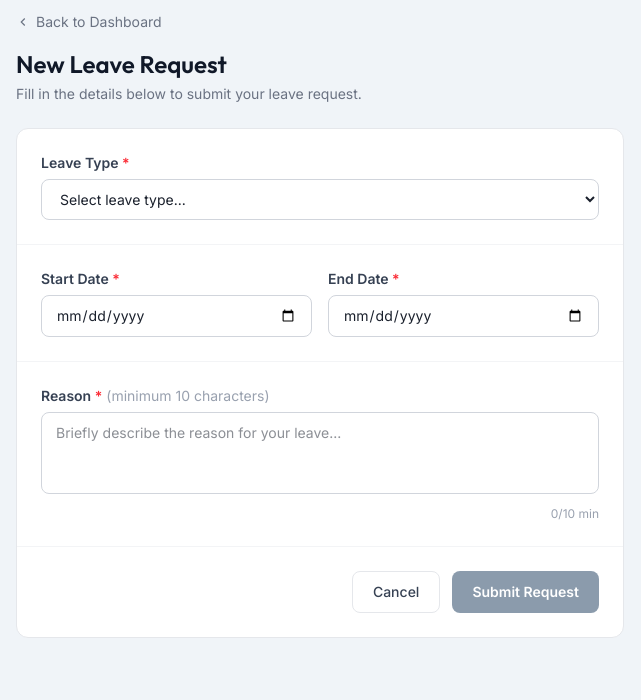
Scenario: NewLeaveRequest — balance display and submit gate › disables submit when Annual Leave balance is 0 and shows zero-balance message
Select "Annual Leave" in the dropdown labelled "Leave Type *" at (320, 200), box top-left (41, 179), bottom-right (599, 220)
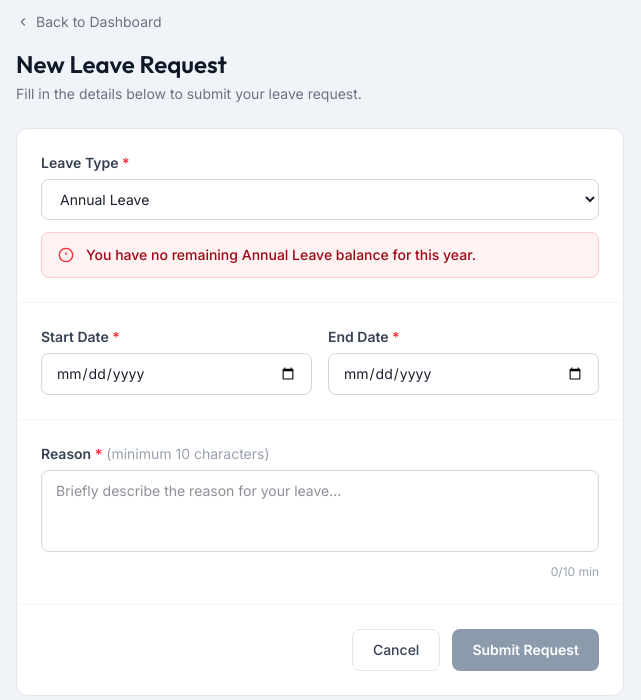
Expected: the button "Submit Request" is disabled, top-left (452, 629), bottom-right (599, 671)
Result: the text "You have no remaining Annual Leave balance for this year." is shown at top-left (86, 246), bottom-right (476, 263)
